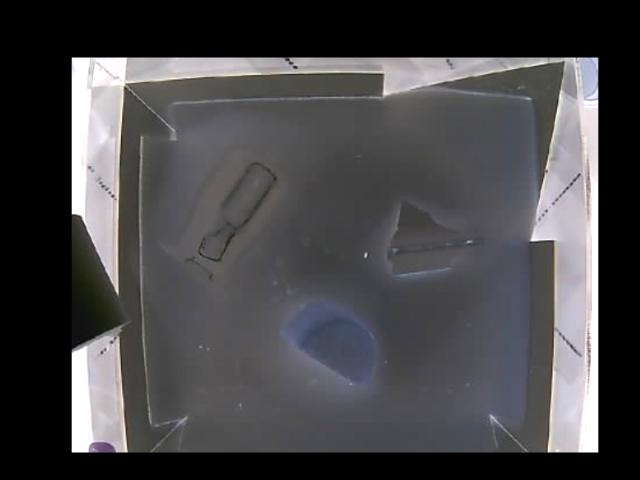Bottle: (157, 153, 288, 289)
China: (386, 199, 483, 275)
Mooli: (280, 302, 379, 380)
